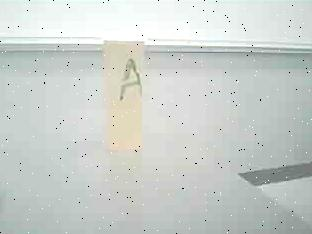Bottle A: (94, 22, 161, 165)
